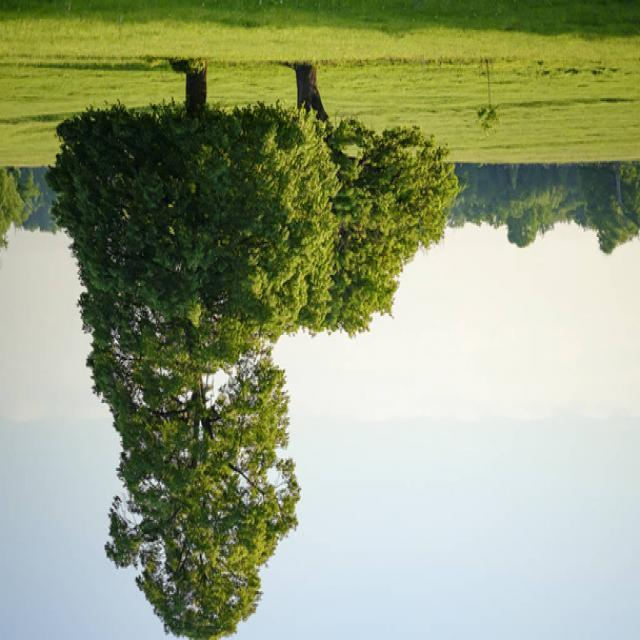tree: (51, 38, 335, 640), (285, 65, 455, 338)
